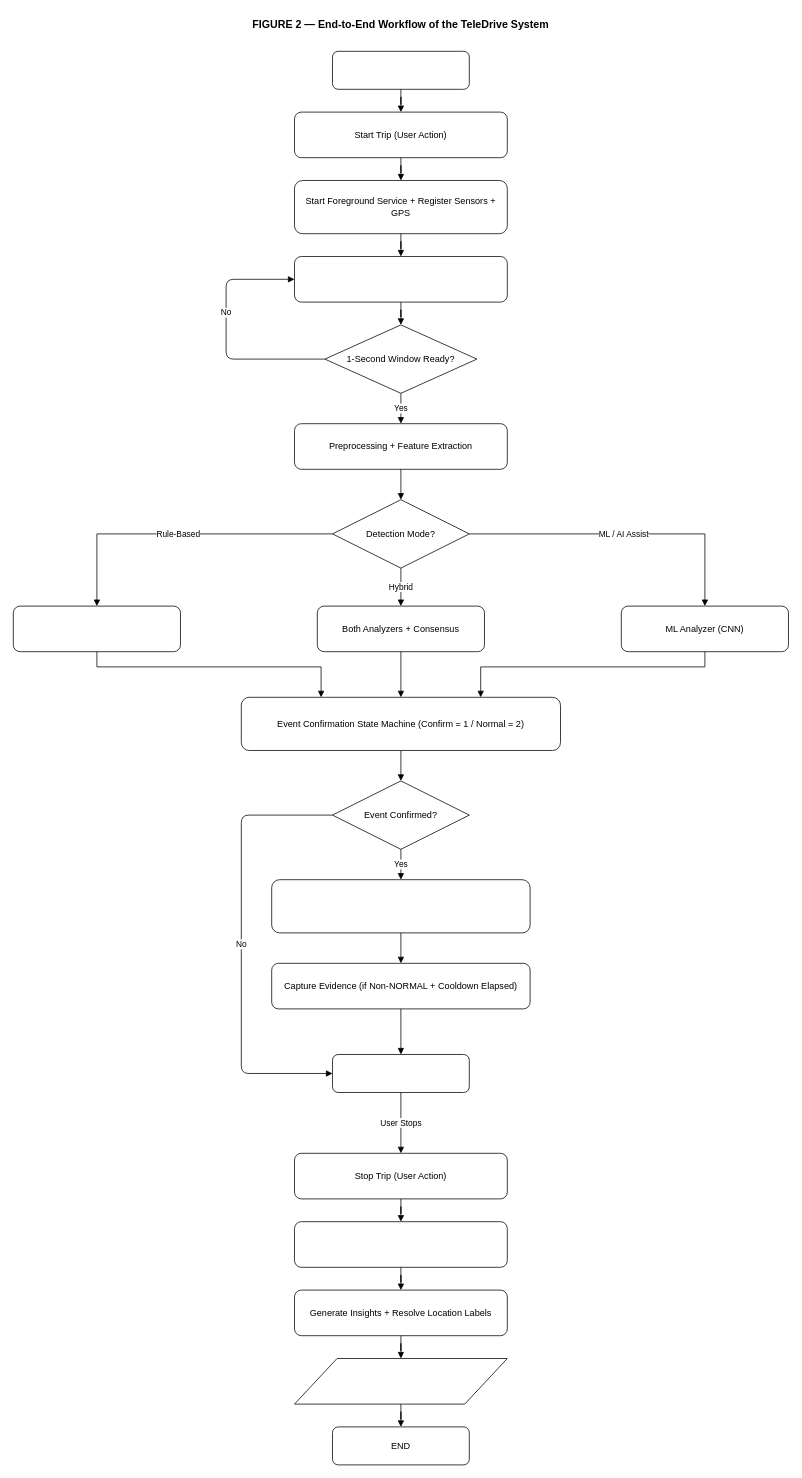
The diagram is 802 pixels wide and 1478 high, and some of its shapes have lost their labels. Each missing label, with the box of its shape:
Collect Sensor Data (IMU + GPS): (294, 256, 507, 302)
Continue Monitoring: (332, 1054, 469, 1092)
Eco Score Update + Fuel Estimation + Live UI Update: (271, 879, 530, 933)
Ride Summary Display: (294, 1358, 507, 1404)
Rule-Based Analyzer: (13, 605, 180, 652)
Save Trip to TripStorage: (294, 1221, 507, 1267)
START: (332, 51, 469, 89)
